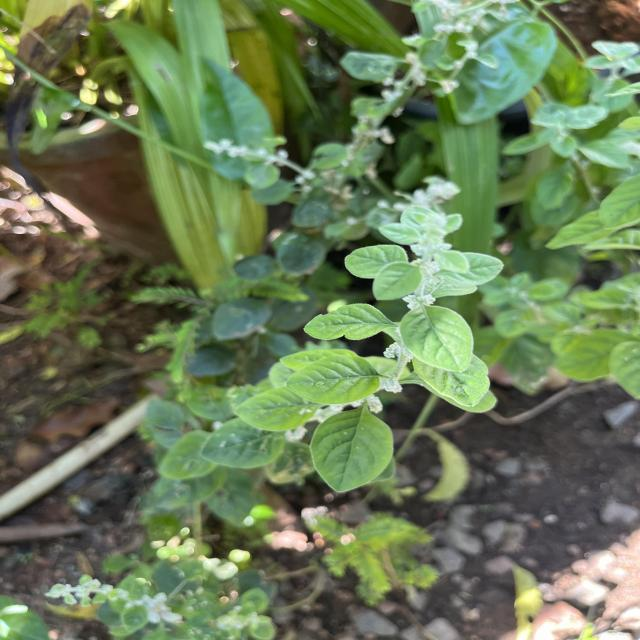Aerva lanata: (306, 406, 396, 494), (398, 304, 478, 376), (284, 352, 385, 406), (302, 301, 394, 342)
